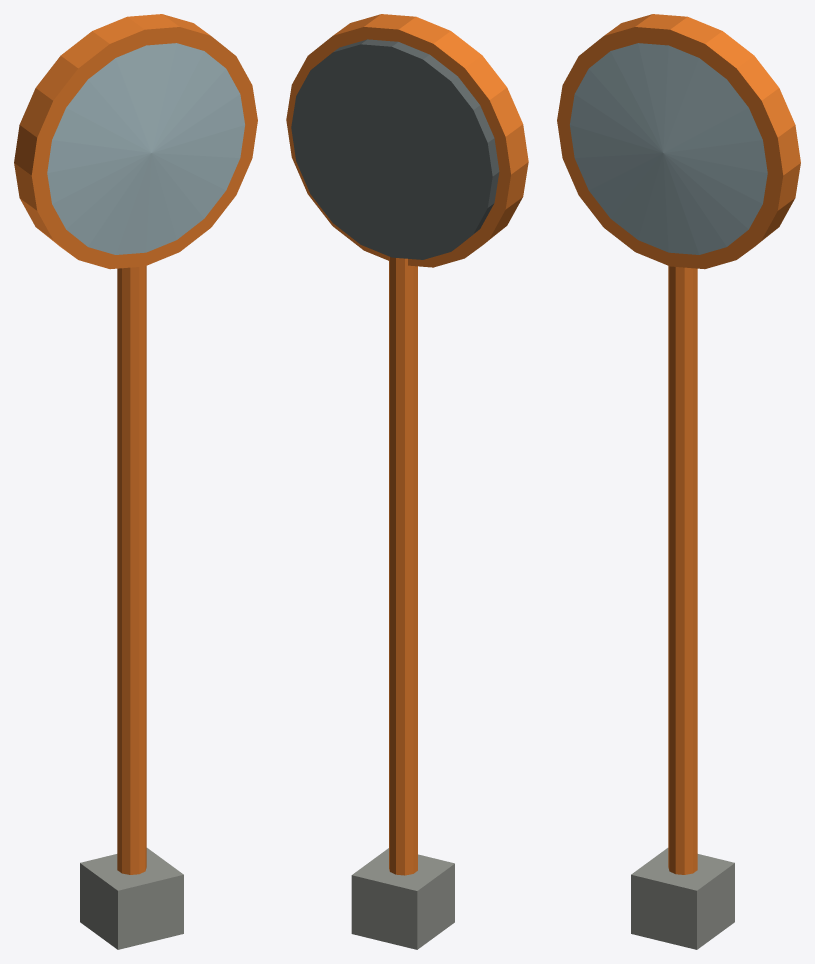
The model's file is curve-mirror.glb.
3 renders of one model, left to right at view 1: azimuth 30°, elevation 25°; view 2: azimuth 150°, elevation 25°; view 3: azimuth 330°, elevation 25°, orthographic.
Visible parts, largest first — view 1: curve-mirror; view 2: curve-mirror; view 3: curve-mirror.
Part boxes in pixels (x1,y1,x2,y2): curve-mirror: [14, 14, 257, 949]; curve-mirror: [286, 14, 528, 949]; curve-mirror: [557, 14, 800, 949].
Size of the model in its own units: 0.96 by 3.68 by 0.285.
